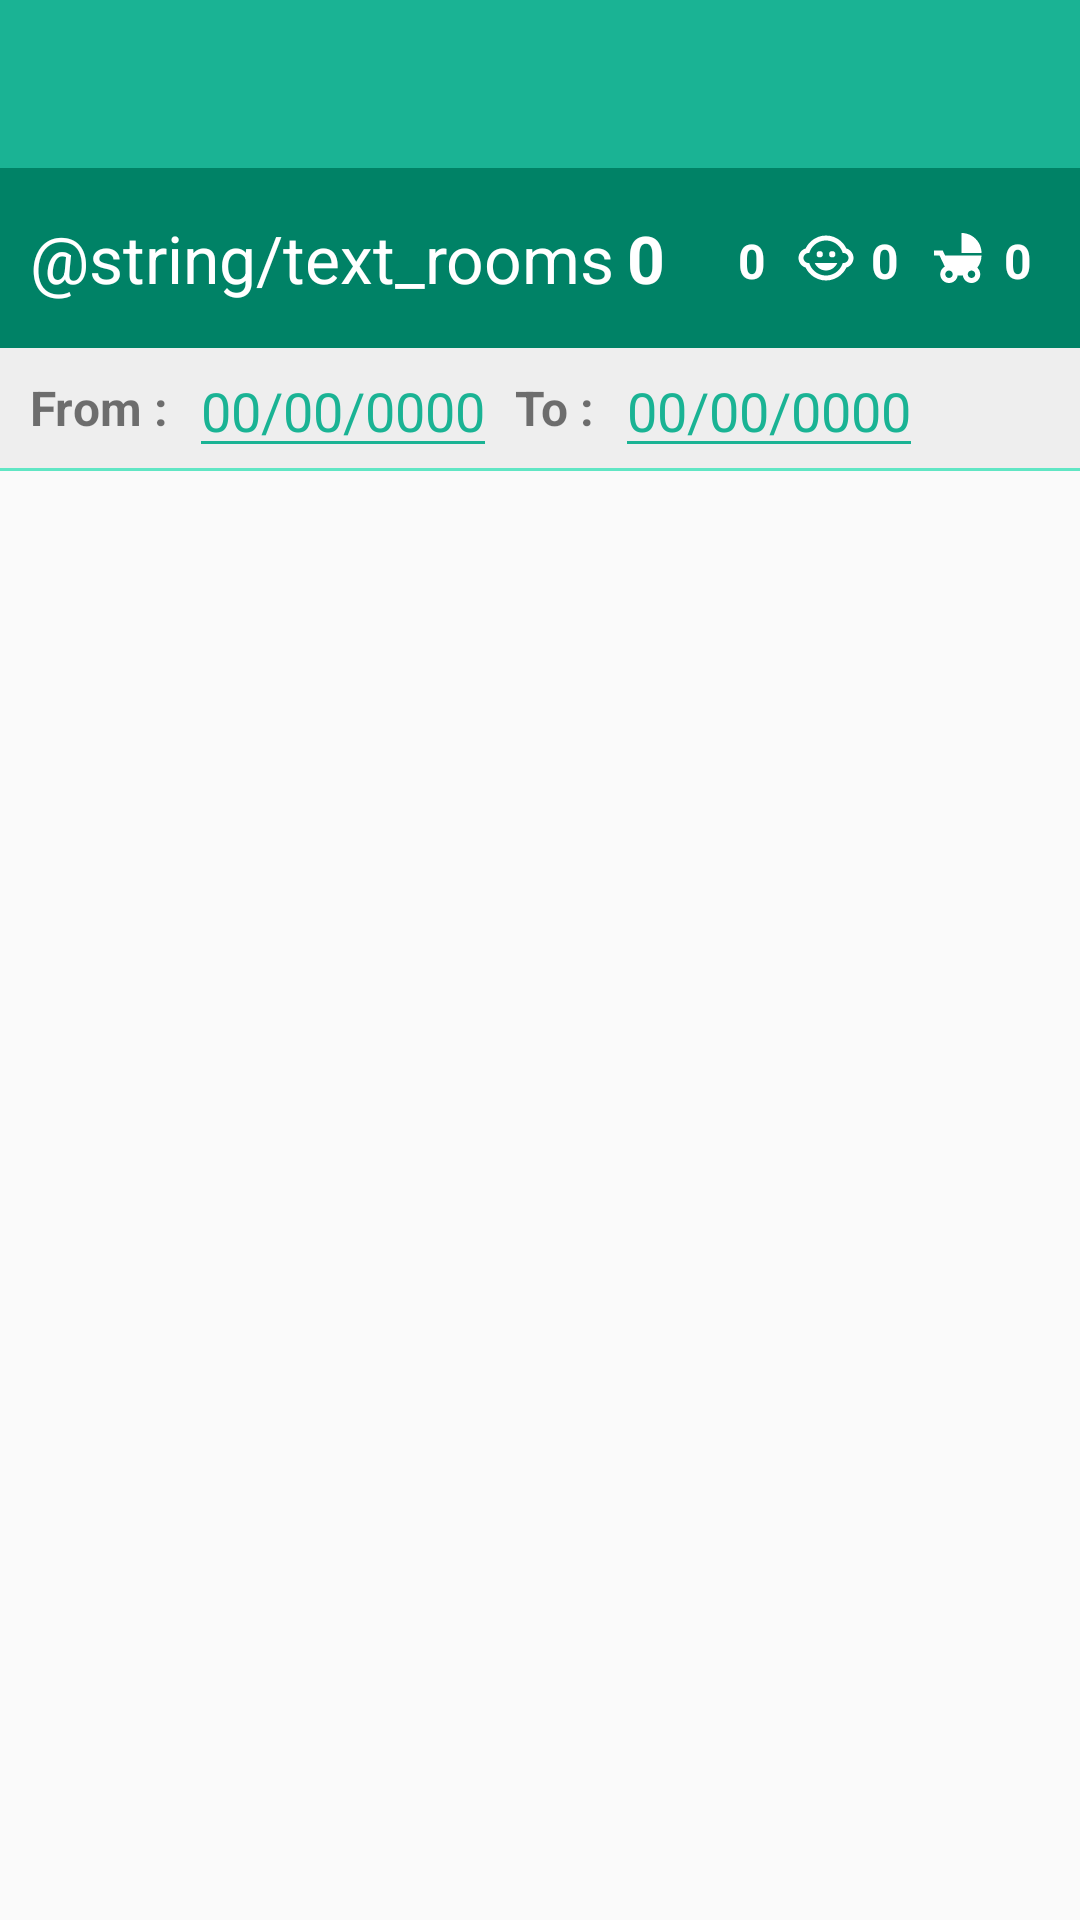

Screen size 1080*1920. Icon name, then its center in pixels as (x=x, y=y):
child care: (x=826, y=258)
child friendly: (x=958, y=258)
